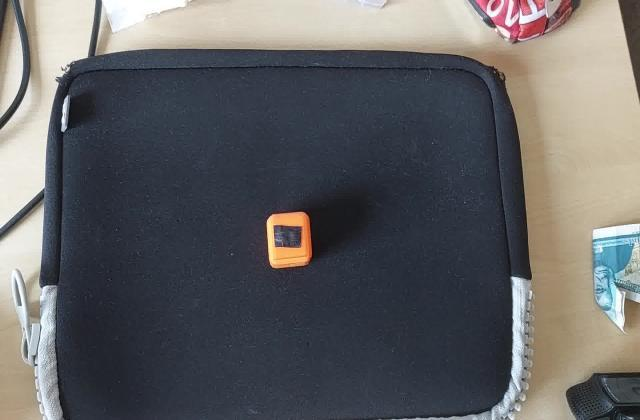black: (270, 220, 304, 253)
sticker: (264, 210, 314, 273)
